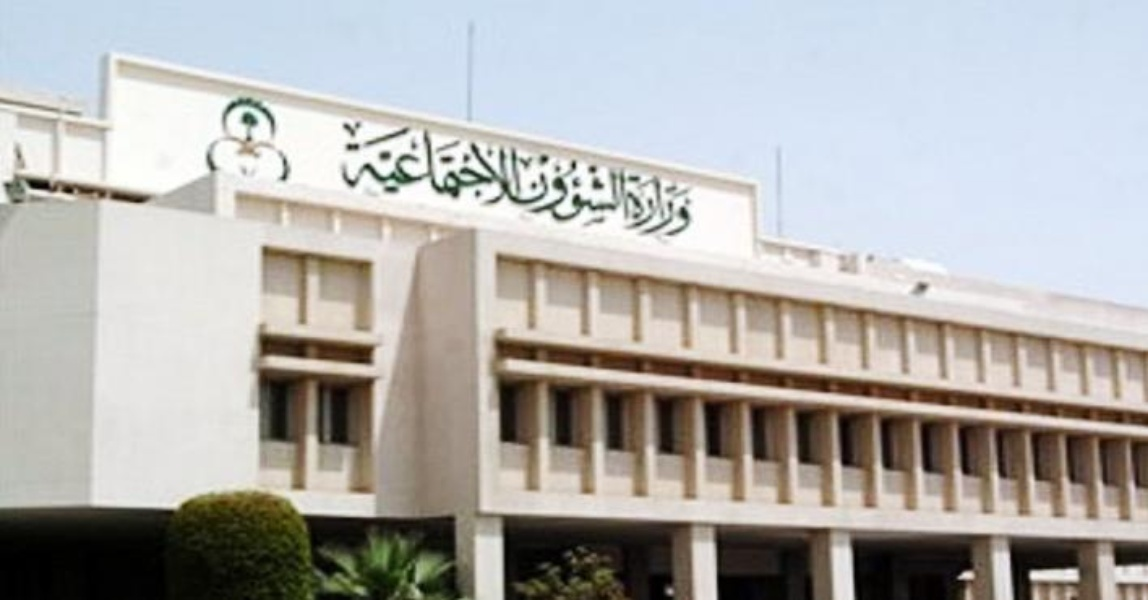text: (353, 114, 368, 208), (369, 114, 384, 208), (385, 114, 400, 208), (401, 114, 416, 208), (417, 114, 432, 208), (433, 114, 448, 208), (449, 114, 464, 208), (465, 114, 480, 208), (481, 114, 496, 208), (497, 114, 512, 208), (513, 114, 528, 208), (529, 148, 544, 241), (545, 148, 560, 241), (561, 148, 576, 241), (577, 148, 592, 241), (593, 148, 608, 241), (609, 148, 624, 241), (641, 169, 656, 245), (657, 169, 672, 245), (673, 169, 688, 245), (516, 148, 528, 241), (630, 169, 640, 245), (344, 114, 352, 208), (625, 148, 633, 241), (689, 169, 698, 245), (529, 114, 531, 208)
